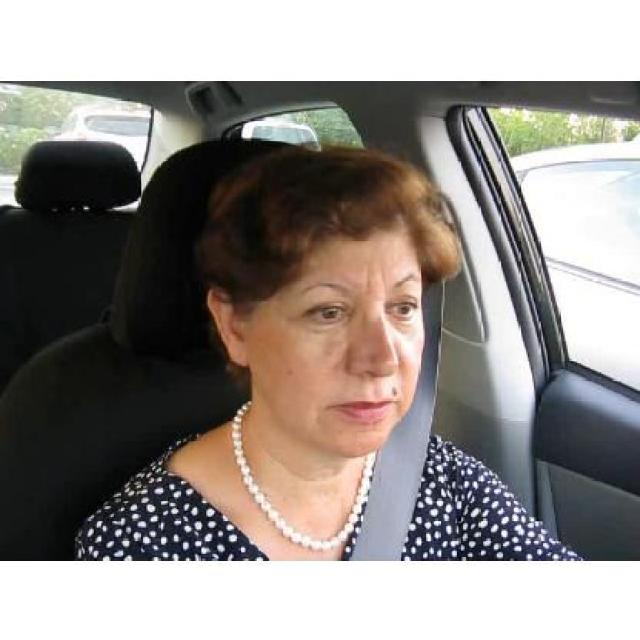attentif: (206, 144, 426, 456)
